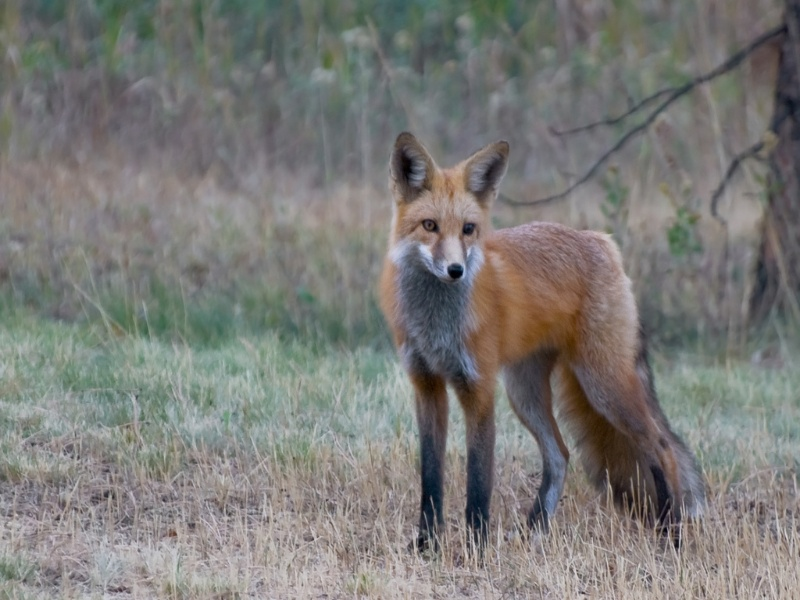fox: (368, 128, 718, 558)
